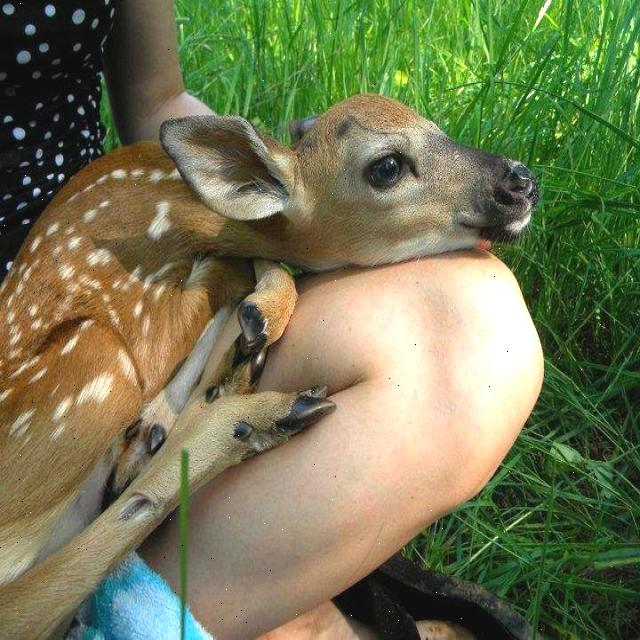deer: (167, 82, 550, 273)
